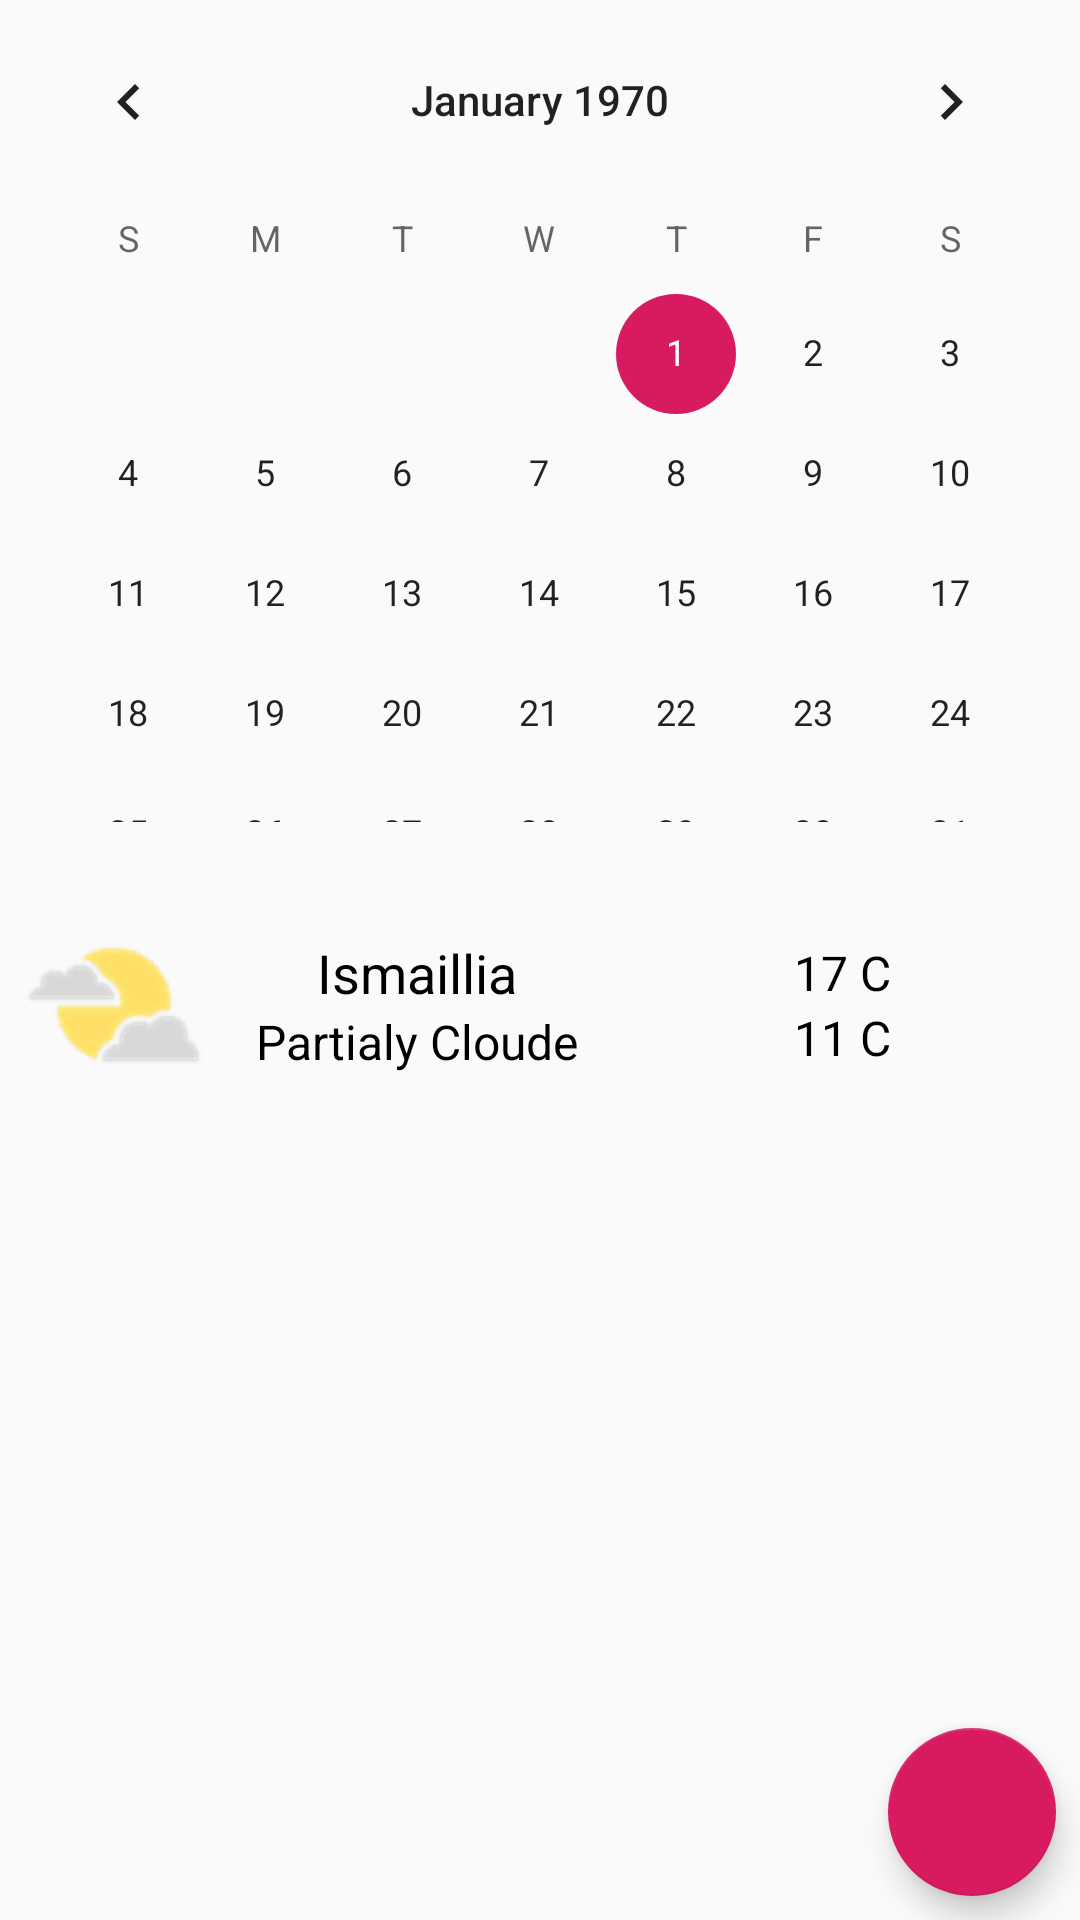

Icons on this 1080 x 1920 Android screen, each with the point to tap as point (x, y):
partly cloudy: point (114, 1004)
